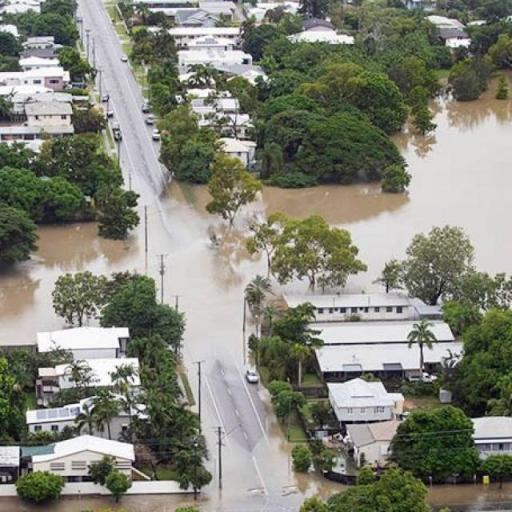flood: (1, 171, 346, 511), (235, 71, 512, 291), (428, 482, 512, 512), (272, 279, 321, 294), (245, 303, 255, 346)
house: (27, 435, 138, 488), (328, 375, 392, 425), (310, 294, 410, 322), (65, 326, 122, 358), (28, 406, 80, 433), (27, 102, 70, 127), (229, 138, 256, 163), (42, 68, 65, 91)
